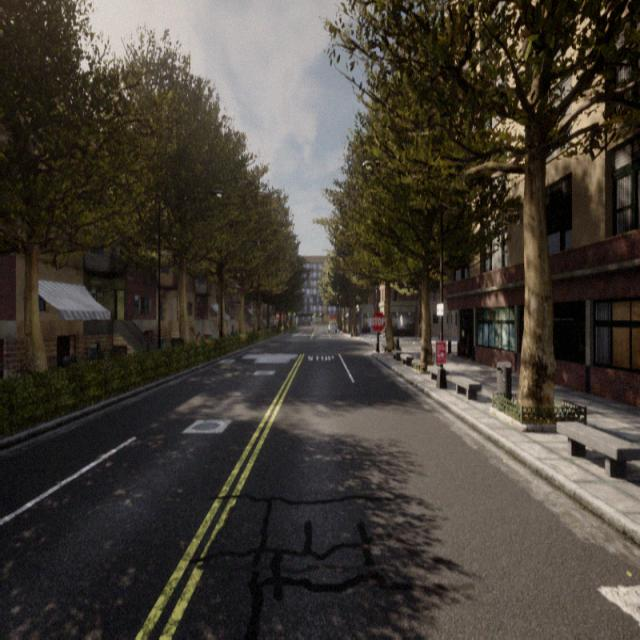stop sign: (368, 306, 387, 353), (369, 309, 386, 333), (370, 316, 386, 329)
